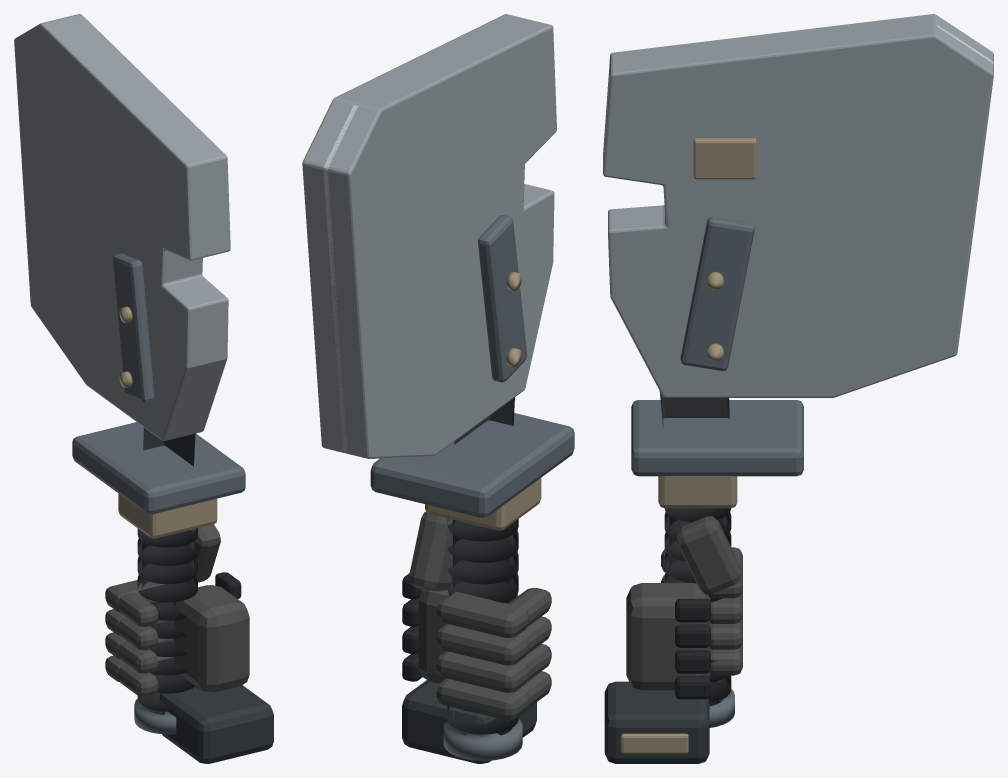
Rendered from cleaver.glb.
The picture shows the model from 3 angles, left to right: view 1: azimuth 30°, elevation 25°; view 2: azimuth 150°, elevation 25°; view 3: azimuth 270°, elevation 25°; orthographic projection. The views are drawn at different scales.
Visible parts, largest first — view 1: Parts_Machined steel, Parts_Parkerized steel, Parts_Charcoal glove, Parts_Graphite polymer, Parts_Rubber, Parts_Cerakote sand; view 2: Parts_Machined steel, Parts_Parkerized steel, Parts_Charcoal glove, Parts_Rubber, Parts_Graphite polymer, Parts_Cerakote sand, Parts_Honed blade silver; view 3: Parts_Machined steel, Parts_Parkerized steel, Parts_Charcoal glove, Parts_Graphite polymer, Parts_Cerakote sand, Parts_Rubber.
Boxes of the visible parts, bbox=[...] form: Parts_Machined steel: bbox=[14, 14, 230, 440]; Parts_Parkerized steel: bbox=[72, 253, 245, 734]; Parts_Charcoal glove: bbox=[105, 524, 249, 696]; Parts_Graphite polymer: bbox=[142, 427, 273, 763]; Parts_Rubber: bbox=[137, 528, 241, 711]; Parts_Cerakote sand: bbox=[118, 306, 217, 538]; Parts_Machined steel: bbox=[302, 14, 556, 458]; Parts_Parkerized steel: bbox=[370, 215, 574, 760]; Parts_Charcoal glove: bbox=[409, 511, 551, 720]; Parts_Rubber: bbox=[402, 518, 518, 734]; Parts_Graphite polymer: bbox=[402, 397, 536, 763]; Parts_Cerakote sand: bbox=[425, 271, 541, 530]; Parts_Honed blade silver: bbox=[323, 105, 357, 453]; Parts_Machined steel: bbox=[603, 14, 993, 397]; Parts_Parkerized steel: bbox=[631, 216, 803, 727]; Parts_Charcoal glove: bbox=[626, 516, 742, 690]; Parts_Graphite polymer: bbox=[604, 391, 729, 763]; Parts_Cerakote sand: bbox=[620, 137, 756, 753]; Parts_Rubber: bbox=[664, 508, 731, 702].
Bounding box in the file's own units: 0.126 × 0.6322 × 0.3166.
